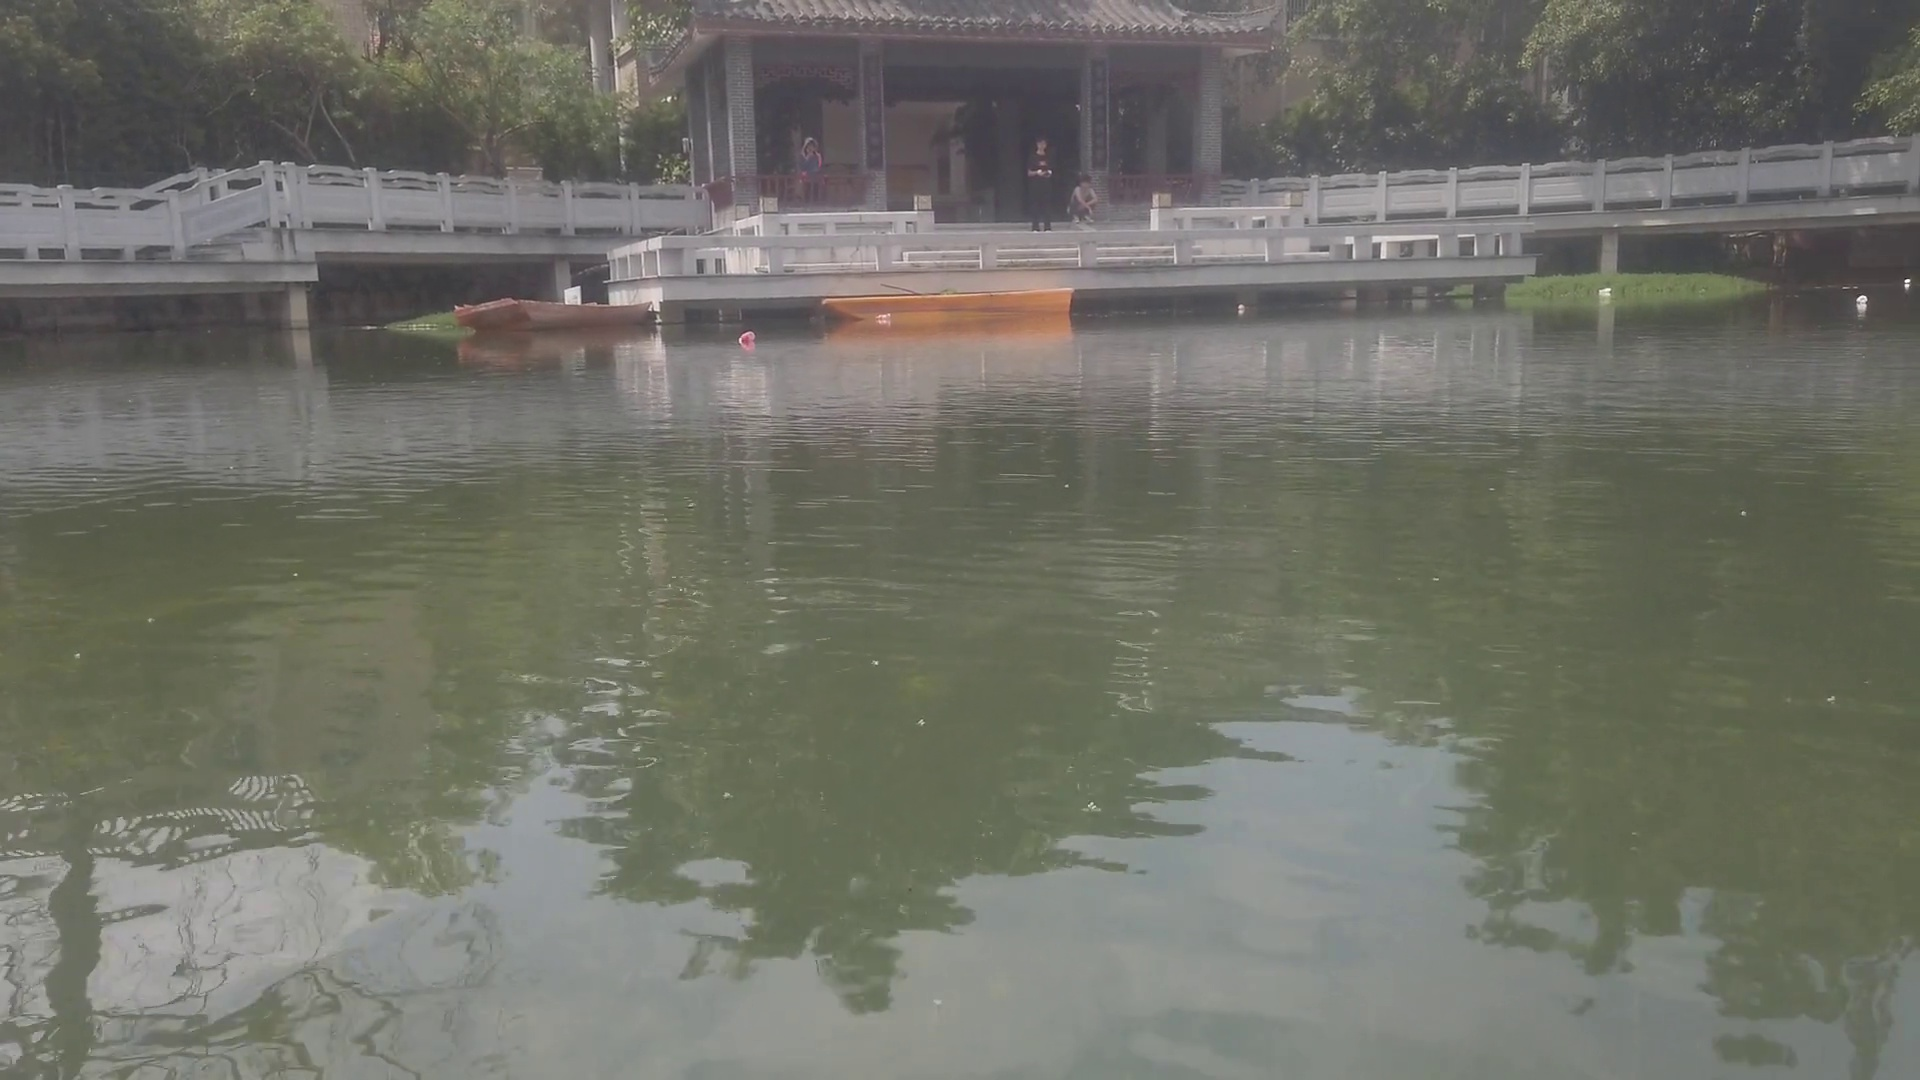bottle: (738, 324, 756, 347), (873, 313, 897, 320), (1237, 299, 1247, 316), (1855, 294, 1869, 307)
carton: (1904, 278, 1913, 287)
plastic: (1596, 282, 1615, 294)
